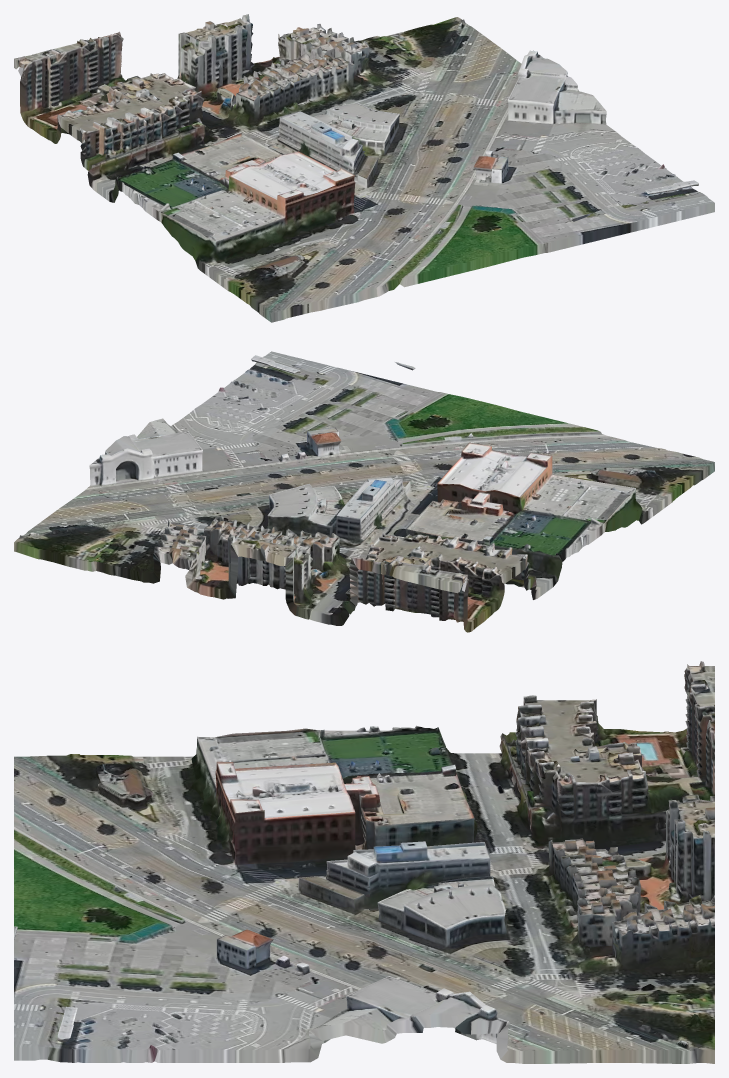
The model's file is z17-20970-50648-h0-yup-uvflip-v3-world.glb.
3 views of the same model, one above another, from view 1: azimuth 30°, elevation 25°; view 2: azimuth 150°, elevation 25°; view 3: azimuth 270°, elevation 25° (orthographic). The views are drawn at different scales.
Bounding box in the file's own units: 241 × 42.24 × 243.
1 material, 1 textured.
